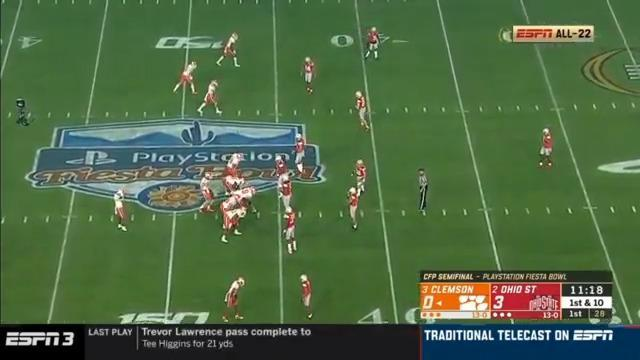player: (221, 276, 247, 321), (174, 59, 202, 98), (196, 78, 223, 117), (215, 31, 241, 71), (536, 126, 557, 174), (352, 90, 373, 136), (220, 206, 246, 243), (280, 206, 299, 256), (295, 274, 315, 321), (111, 186, 129, 234), (278, 173, 297, 217), (298, 55, 317, 99), (362, 25, 383, 63), (232, 185, 256, 218), (291, 132, 307, 181), (272, 154, 295, 188), (351, 158, 371, 197), (200, 171, 217, 215), (345, 187, 360, 234), (221, 194, 240, 228), (223, 175, 246, 192), (227, 153, 243, 175)
ref: (414, 168, 431, 217)
